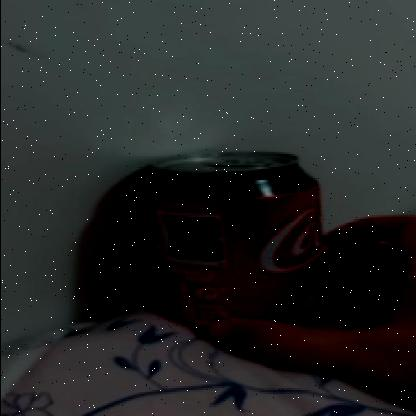Can: (138, 151, 328, 333)
